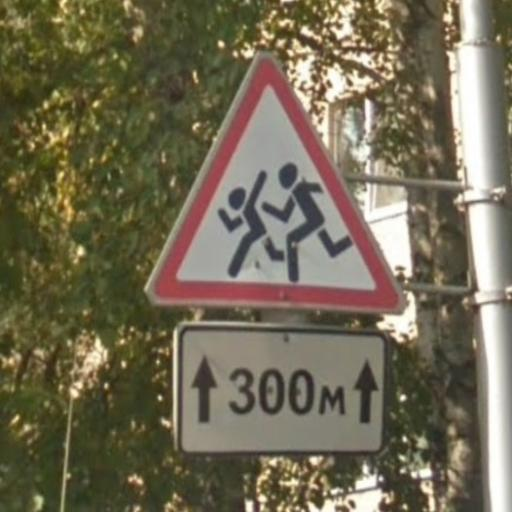traffic_sign: (142, 50, 406, 316)
